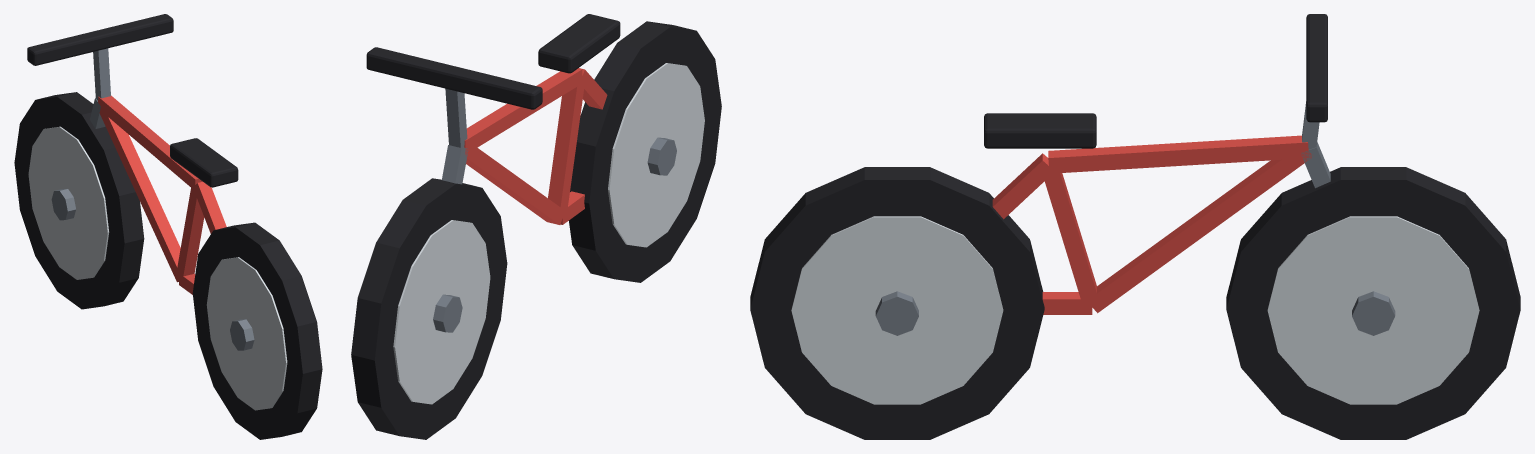
Rendered from Bike_Bike.fbx.
3 views of the same model, side by side, from view 1: azimuth 30°, elevation 25°; view 2: azimuth 150°, elevation 25°; view 3: azimuth 270°, elevation 25° (orthographic). The views are drawn at different scales.
Parts seen in each view (by area): view 1: Bike; view 2: Bike; view 3: Bike.
Boxes of the visible parts, box(x1,y1,x2,y2) form: Bike: box(14, 14, 322, 439); Bike: box(351, 14, 721, 439); Bike: box(750, 14, 1520, 439).
Bounding box in the file's own units: 0.5 × 0.9565 × 1.78.
